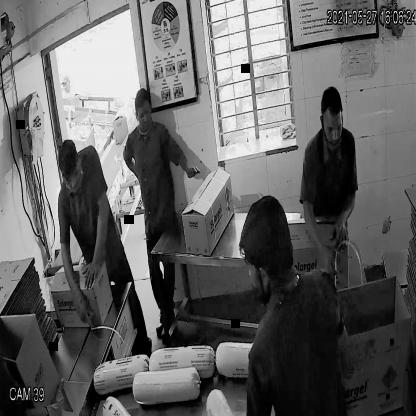no_goggles: (316, 117, 342, 136)
